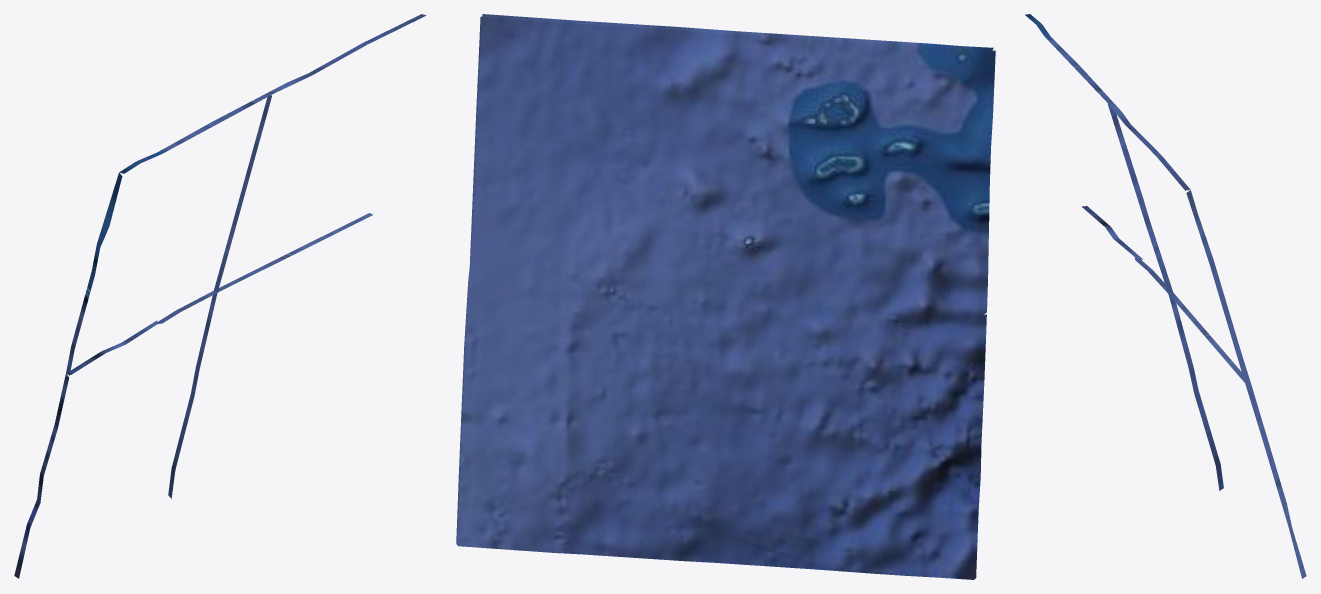
3 renders of one model, left to right at view 1: azimuth 30°, elevation 25°; view 2: azimuth 150°, elevation 25°; view 3: azimuth 270°, elevation 25°, orthographic. The views are drawn at different scales.
Bounding box in the file's own units: 315532 × 304188 × 190562.
1 material, 1 textured.
